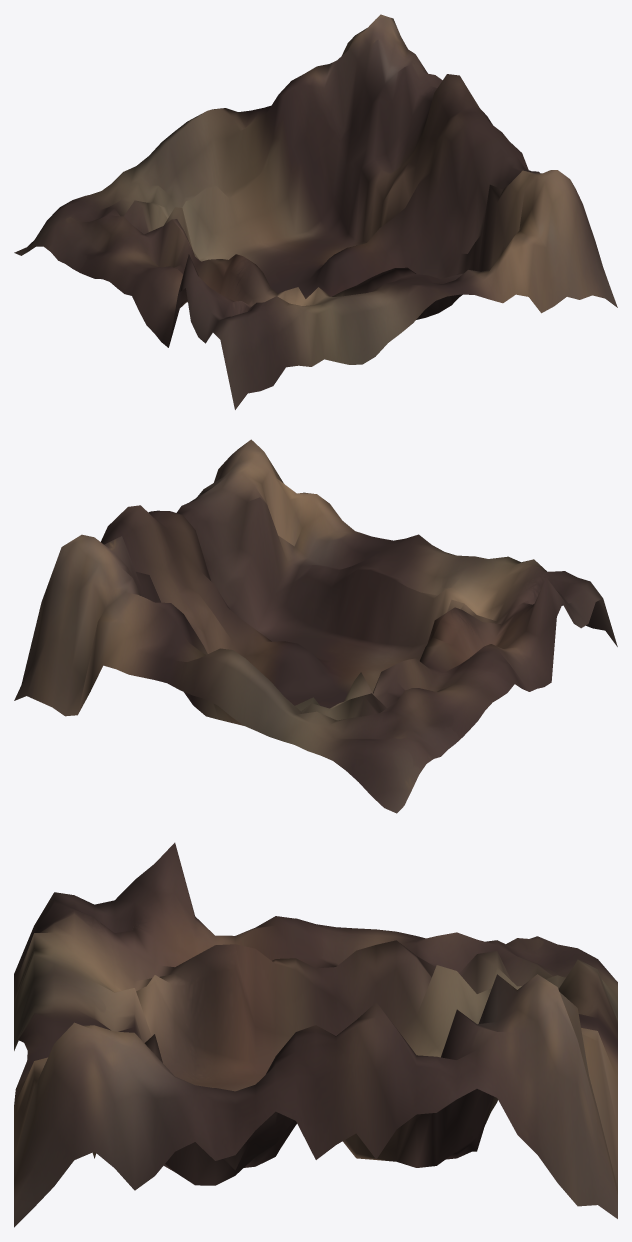
File: map1.obj
3 views of the same model, one above another, from view 1: azimuth 30°, elevation 25°; view 2: azimuth 150°, elevation 25°; view 3: azimuth 270°, elevation 25° (orthographic). The views are drawn at different scales.
Parts seen in each view (by area): view 1: pPlane1; view 2: pPlane1; view 3: pPlane1.
Boxes of the visible parts, box(x1,y1,x2,y2) form: pPlane1: box(14, 14, 617, 409); pPlane1: box(14, 439, 617, 813); pPlane1: box(14, 842, 617, 1227).
Size of the model in its own units: 40 by 17.35 by 40.
Materials: 1 (1 with a texture image).
